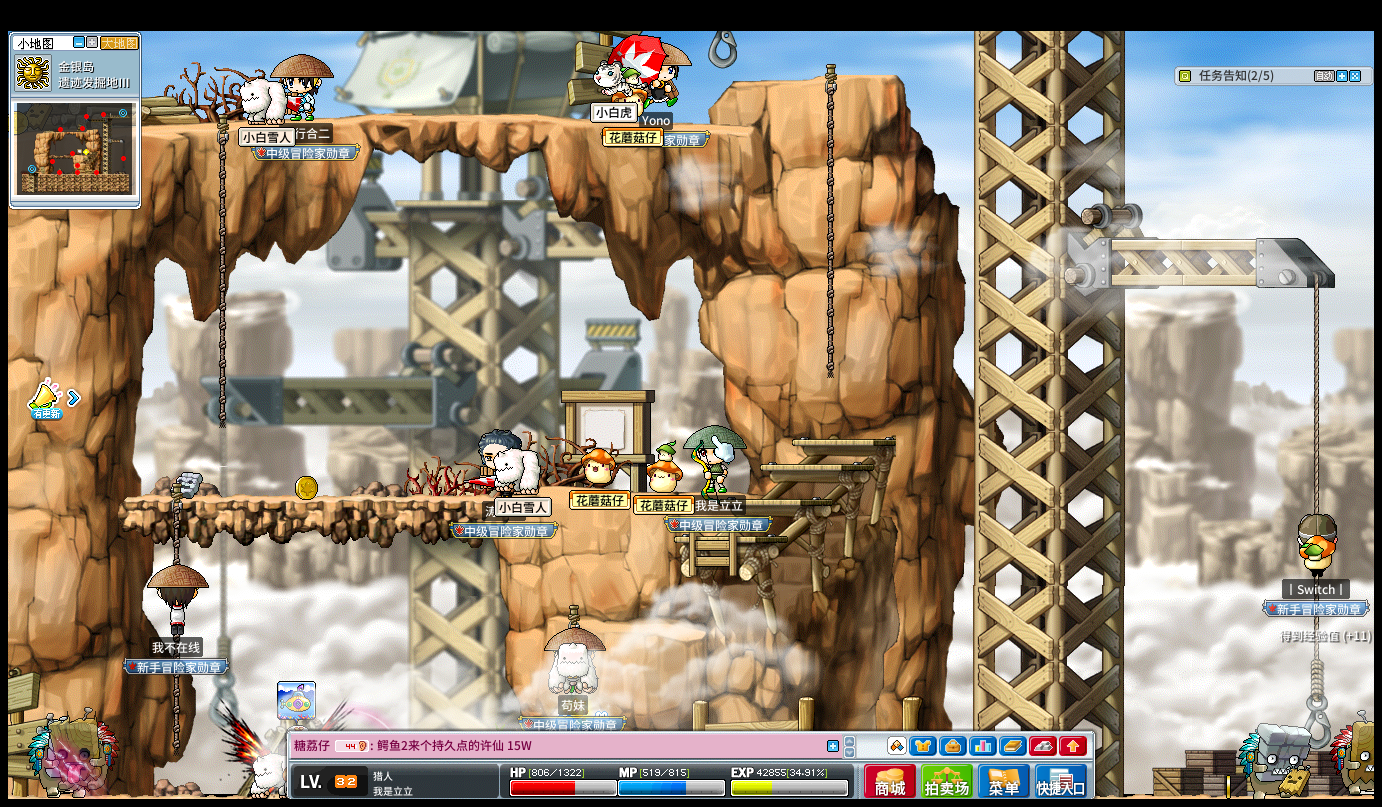floor: (119, 109, 790, 138), (115, 494, 506, 505), (1104, 234, 1313, 251), (729, 74, 907, 88), (729, 71, 904, 85), (596, 621, 705, 643), (617, 488, 771, 497), (669, 533, 788, 544), (790, 437, 895, 447), (758, 462, 872, 471), (736, 498, 832, 505)
monster: (28, 716, 118, 794), (1238, 723, 1310, 794), (1328, 714, 1382, 794)
rope: (822, 57, 837, 384), (215, 110, 226, 426), (1309, 280, 1322, 483), (168, 481, 181, 562), (170, 674, 181, 756), (1310, 639, 1322, 706), (1309, 456, 1322, 508)
